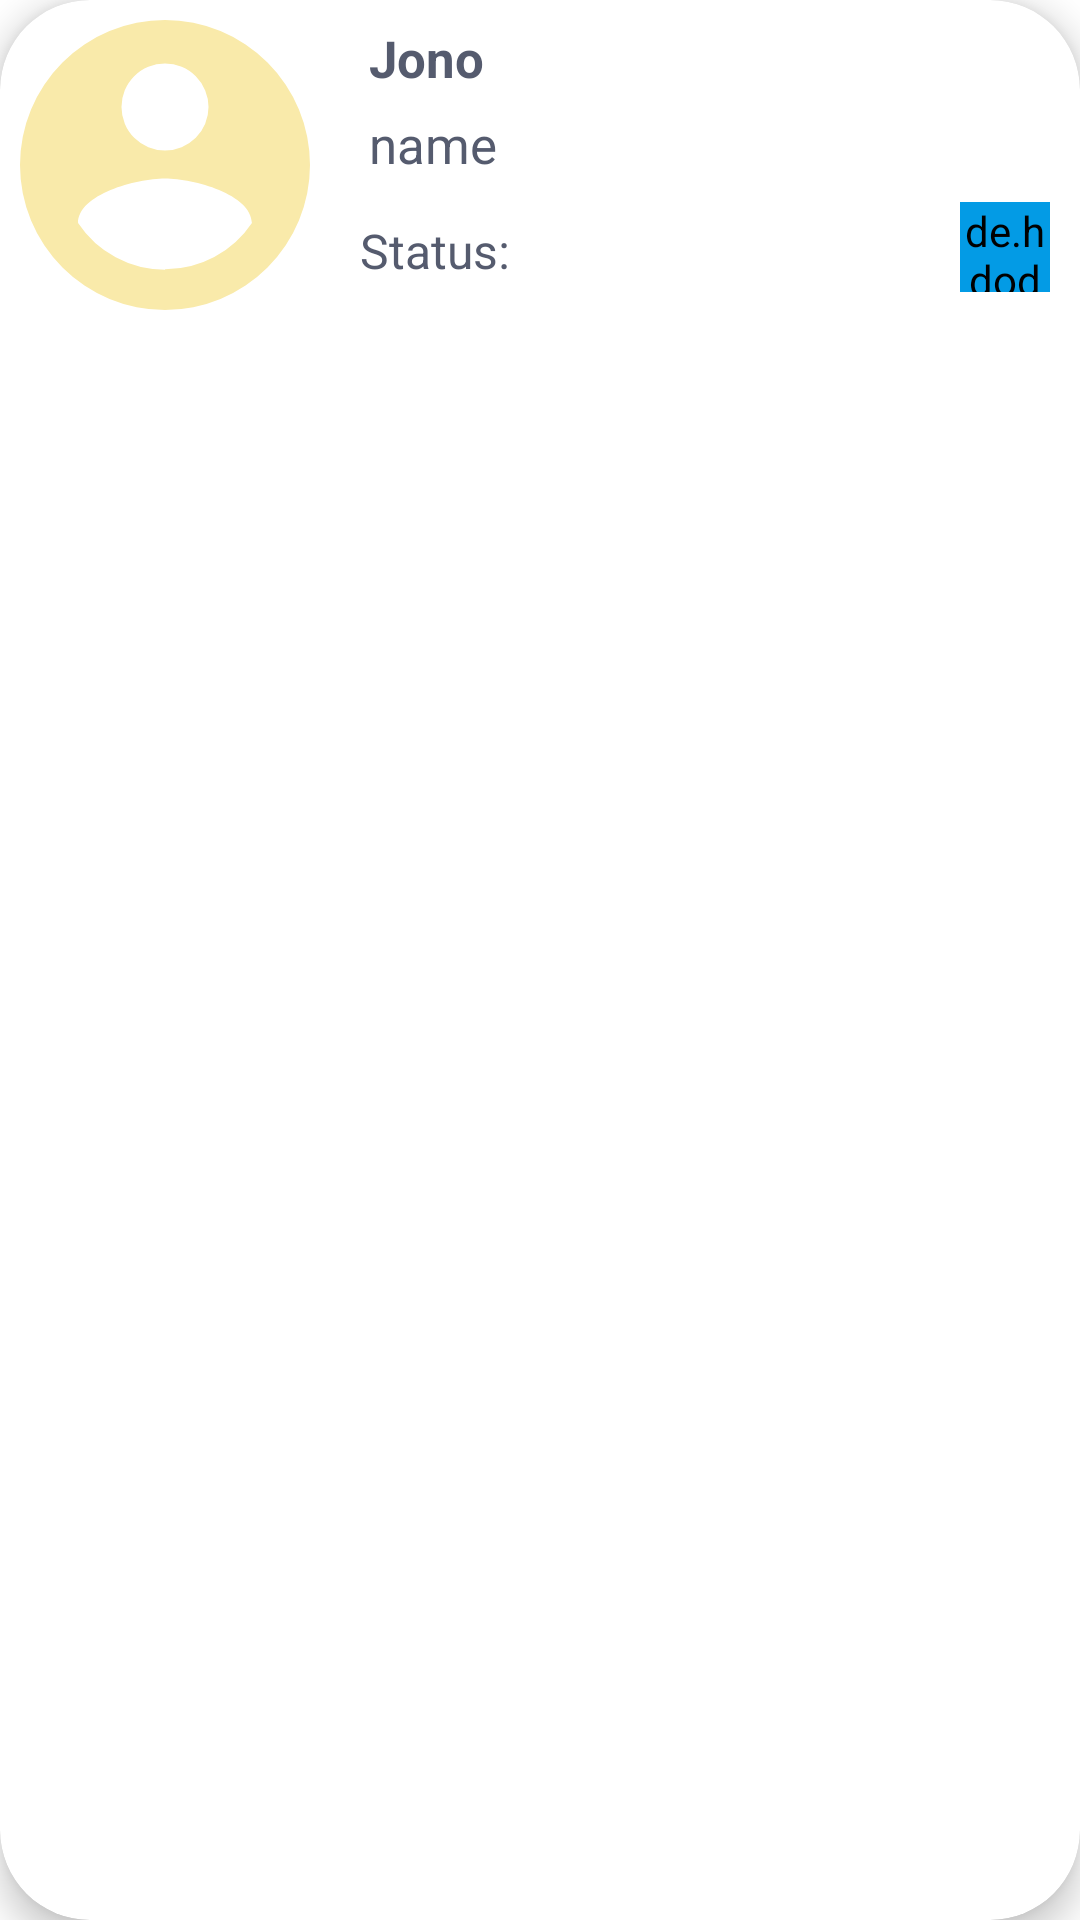

Point at icon controls on the screen. Image size 1080×1920, points as (x=x, y=y).
user: (x=155, y=155)
